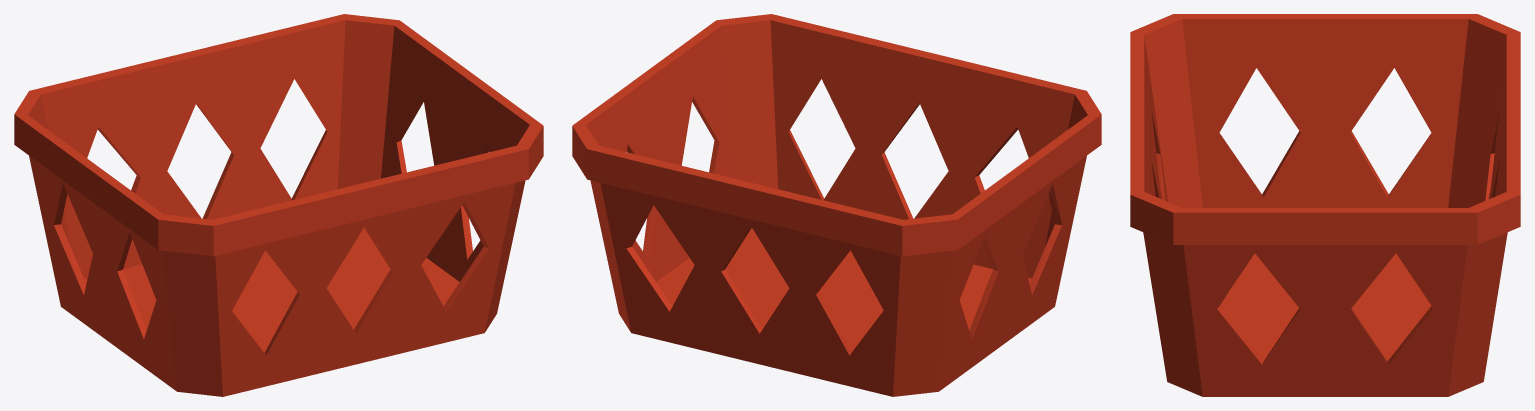
The model's file is SM_Cook_Basket_Red_01.obj.
The picture shows the model from 3 angles, left to right: view 1: azimuth 30°, elevation 25°; view 2: azimuth 150°, elevation 25°; view 3: azimuth 270°, elevation 25°; orthographic projection. The views are drawn at different scales.
Visible parts, largest first — view 1: SM_Cook_Basket_Red_01; view 2: SM_Cook_Basket_Red_01; view 3: SM_Cook_Basket_Red_01.
Part boxes in pixels (left/top/right/bottom): SM_Cook_Basket_Red_01: left=14, top=14, right=543, bottom=396; SM_Cook_Basket_Red_01: left=572, top=14, right=1101, bottom=396; SM_Cook_Basket_Red_01: left=1130, top=14, right=1520, bottom=396.
Size of the model in its own units: 0.318 by 0.15 by 0.2638.
Materials: 1 (1 with a texture image).
